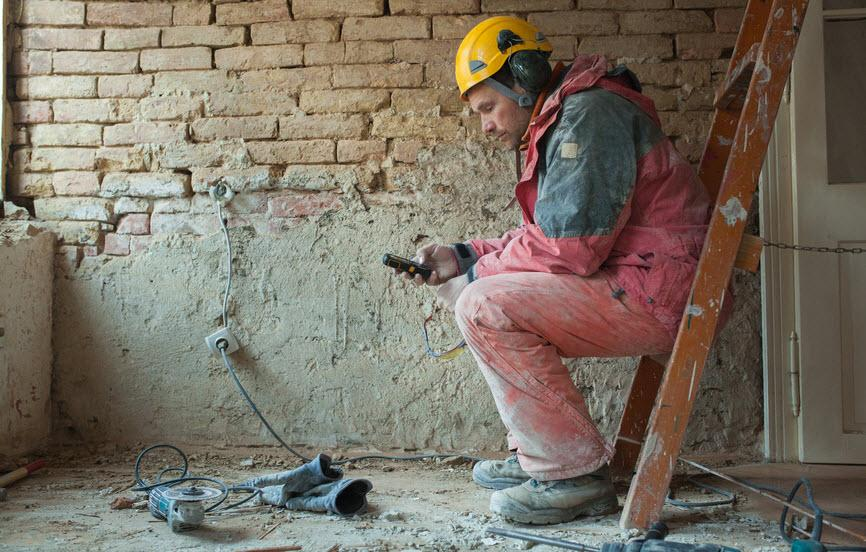helmet: (454, 15, 555, 106)
